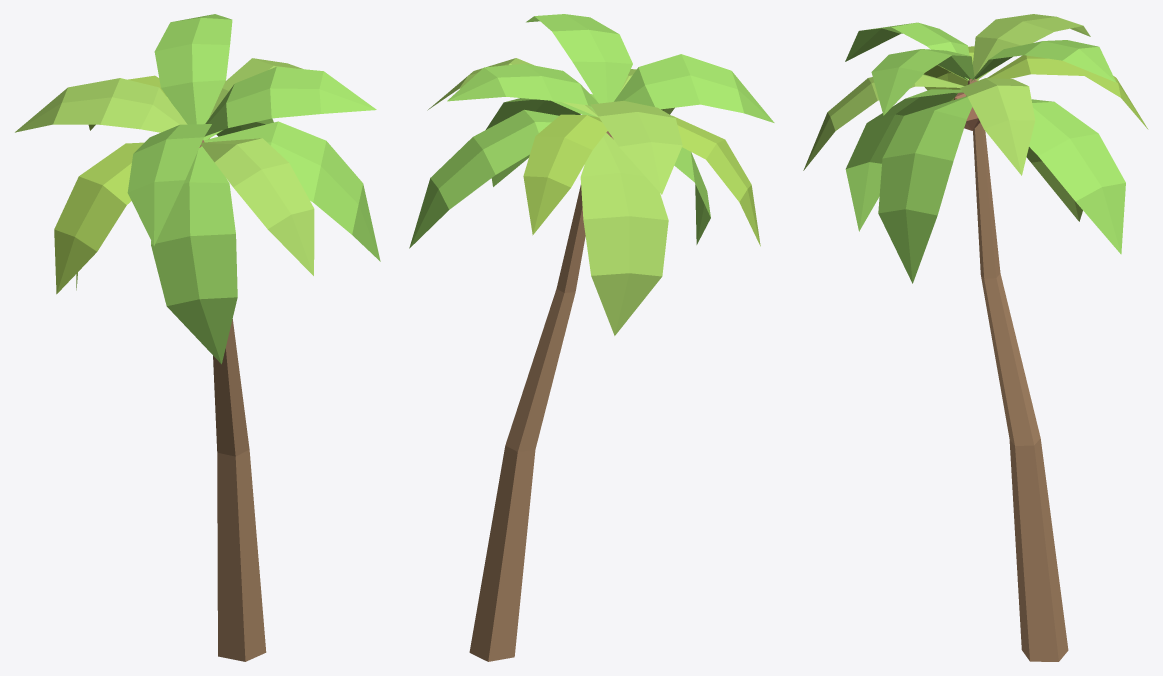
Rendered from Palm_Tree_Coconut_l_06_LOD.fbx.
3 renders of one model, left to right at view 1: azimuth 30°, elevation 25°; view 2: azimuth 150°, elevation 25°; view 3: azimuth 270°, elevation 25°, orthographic. The views are drawn at different scales.
Visible parts, largest first — view 1: Palm_Tree_Coconut_l_06_LOD0; view 2: Palm_Tree_Coconut_l_06_LOD0; view 3: Palm_Tree_Coconut_l_06_LOD0.
Boxes of the visible parts, x1,y1,x2,y2 form: Palm_Tree_Coconut_l_06_LOD0: (15, 14, 380, 661); Palm_Tree_Coconut_l_06_LOD0: (409, 14, 774, 661); Palm_Tree_Coconut_l_06_LOD0: (803, 14, 1148, 661).
Size of what is drawn, in the model's own units: 377 by 712 by 375.
